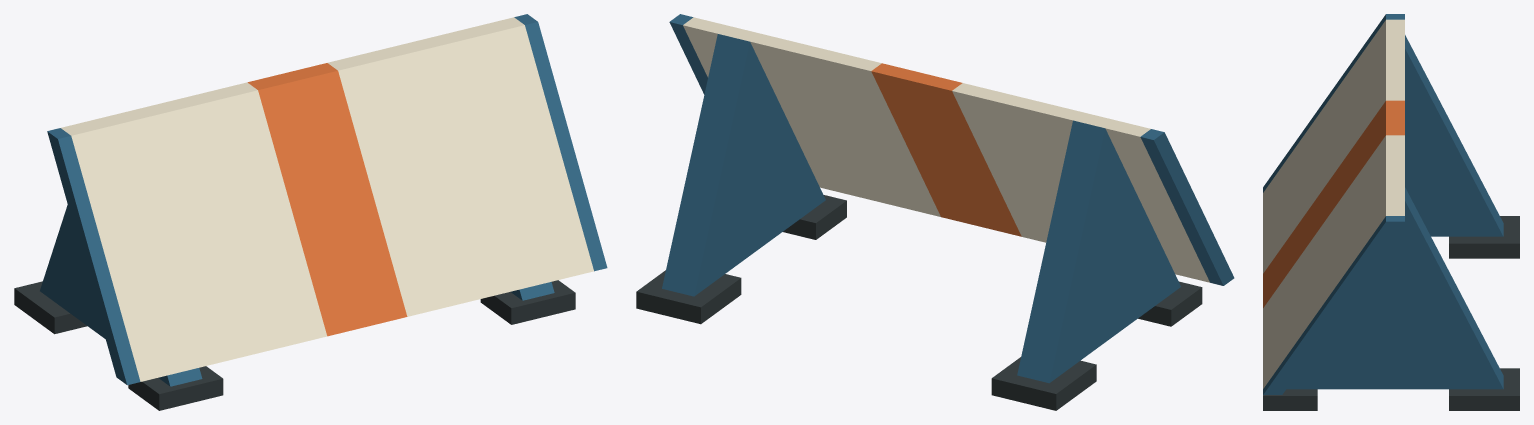
The picture shows the model from 3 angles, left to right: view 1: azimuth 30°, elevation 25°; view 2: azimuth 150°, elevation 25°; view 3: azimuth 270°, elevation 25°; orthographic projection. The views are drawn at different scales.
Parts seen in each view (by area): view 1: WholeInclinedPassingPanel, LeftWholeTriangularCheek, LeftFrontGroundPad, RightFrontGroundPad, LeftRearGroundPad; view 2: WholeInclinedPassingPanel, LeftWholeTriangularCheek, RightWholeTriangularCheek, LeftRearGroundPad, RightRearGroundPad, LeftFrontGroundPad, RightFrontGroundPad; view 3: WholeInclinedPassingPanel, RightWholeTriangularCheek, LeftWholeTriangularCheek, LeftRearGroundPad, RightRearGroundPad, RightFrontGroundPad.
Part boxes in pixels (<box>): WholeInclinedPassingPanel: <box>47,14,607,385</box>; LeftWholeTriangularCheek: <box>40,205,202,386</box>; LeftFrontGroundPad: <box>128,366,223,410</box>; RightFrontGroundPad: <box>480,280,575,324</box>; LeftRearGroundPad: <box>14,281,87,334</box>; WholeInclinedPassingPanel: <box>669,14,1234,285</box>; LeftWholeTriangularCheek: <box>1017,120,1180,383</box>; RightWholeTriangularCheek: <box>662,34,825,296</box>; LeftRearGroundPad: <box>991,357,1096,410</box>; RightRearGroundPad: <box>636,270,741,324</box>; LeftFrontGroundPad: <box>1138,281,1202,326</box>; RightFrontGroundPad: <box>783,195,846,239</box>; WholeInclinedPassingPanel: <box>1263,14,1404,394</box>; RightWholeTriangularCheek: <box>1286,187,1503,389</box>; LeftWholeTriangularCheek: <box>1405,35,1503,236</box>; LeftRearGroundPad: <box>1449,216,1519,258</box>; RightRearGroundPad: <box>1449,368,1519,410</box>; RightFrontGroundPad: <box>1263,389,1317,410</box>.
Size of the model in its own units: 1.8 by 0.82 by 0.94.
